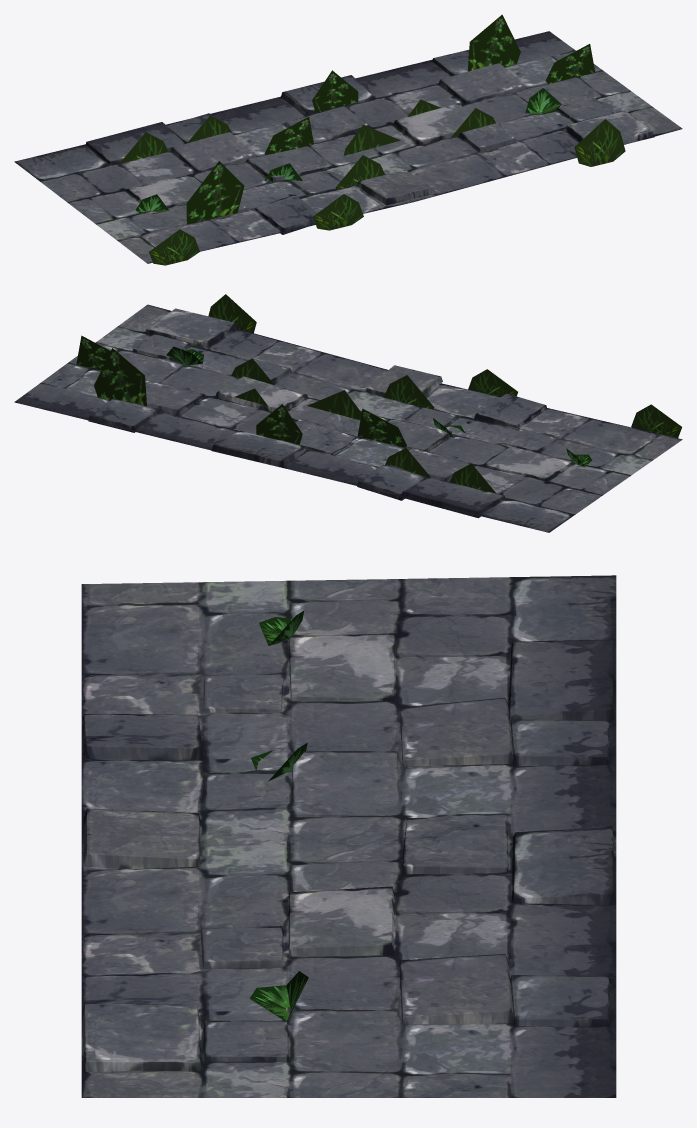
Rendered from PavementSeamless.FBX.
3 views of the same model, one above another, from view 1: azimuth 30°, elevation 25°; view 2: azimuth 150°, elevation 25°; view 3: azimuth 270°, elevation 25° (orthographic). The views are drawn at different scales.
Visible parts, largest first — view 1: PavementStraight; view 2: PavementStraight; view 3: PavementStraight.
Part boxes in pixels (bbox=[...]): PavementStraight: bbox=[14, 14, 682, 265]; PavementStraight: bbox=[14, 294, 682, 532]; PavementStraight: bbox=[81, 575, 616, 1097].
Bounding box in the file's own units: 371 × 59 × 161.
